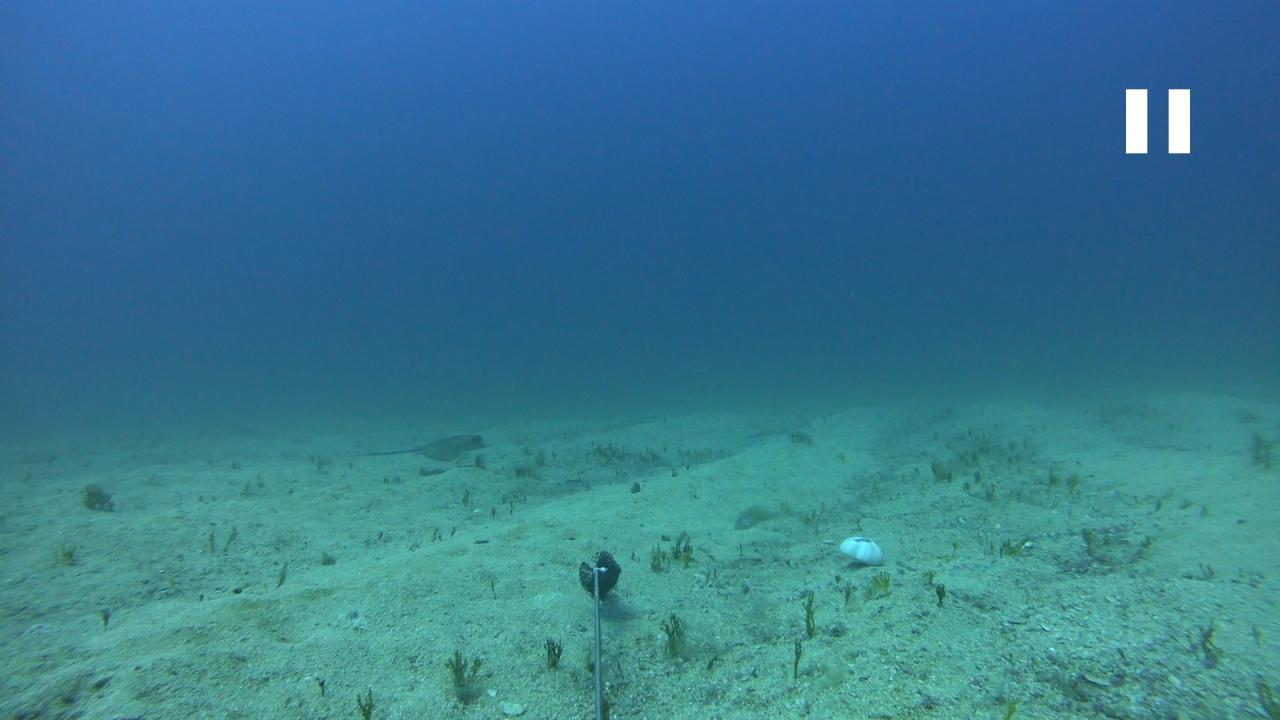dasyatis: (360, 430, 496, 464)
raor: (733, 499, 790, 532)
